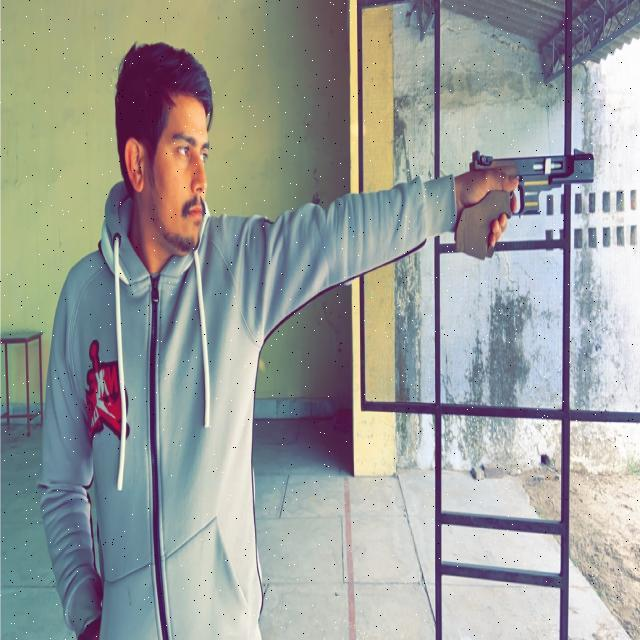gun: (442, 142, 601, 270)
